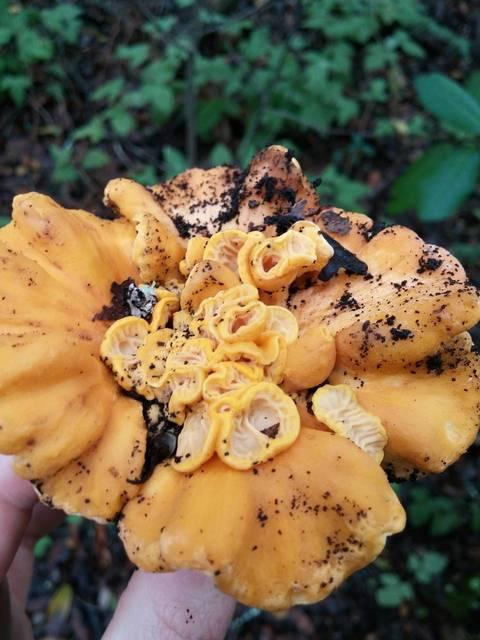edible_mushroom: (0, 143, 479, 611)
